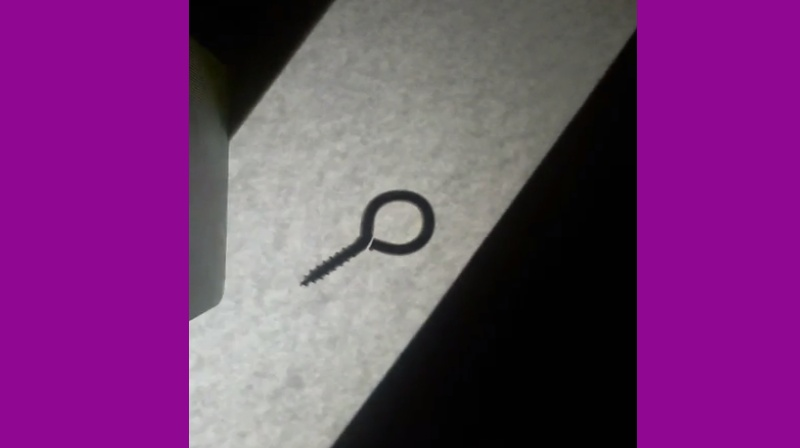O001: (296, 185, 437, 287)
